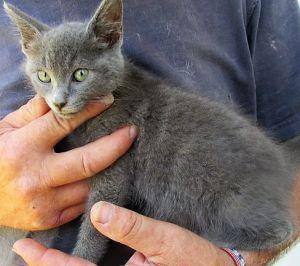rblue: (5, 1, 132, 128)
